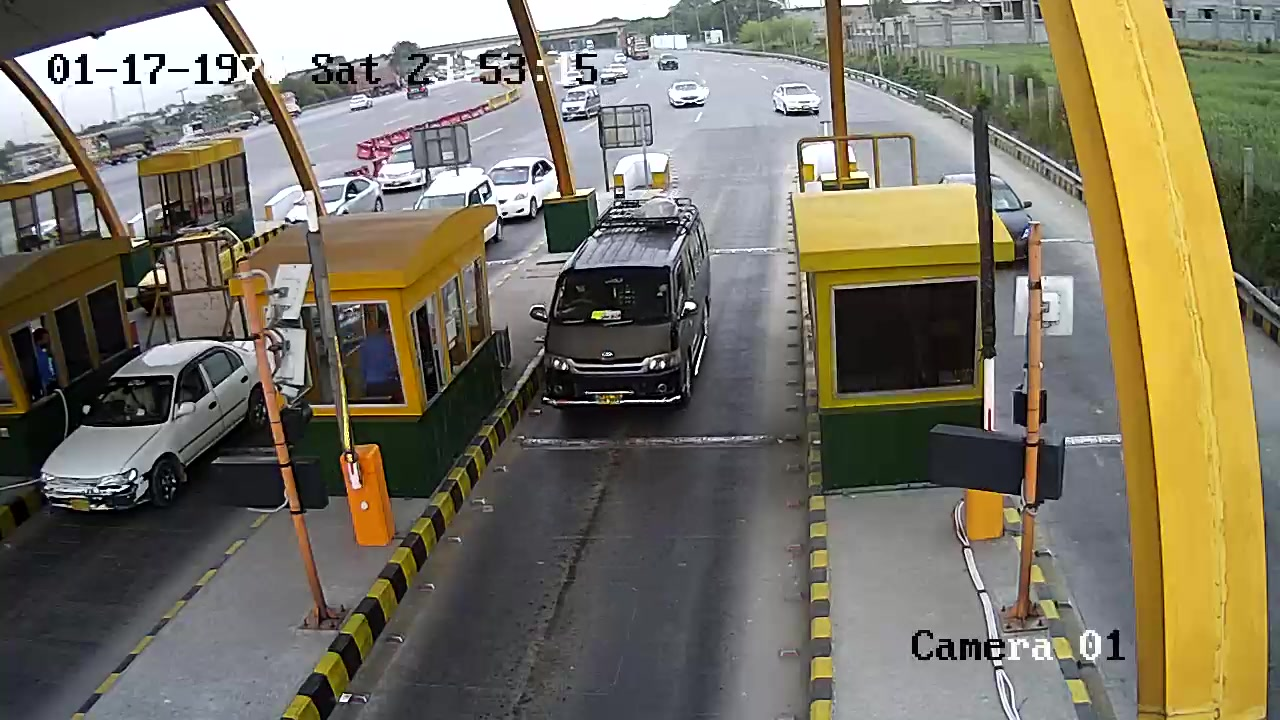F3: (533, 187, 722, 415)
